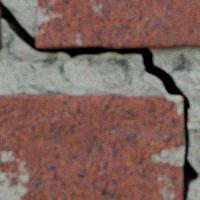brick: (0, 93, 183, 199), (36, 0, 199, 48), (0, 8, 2, 50)
crack: (0, 0, 198, 199)
